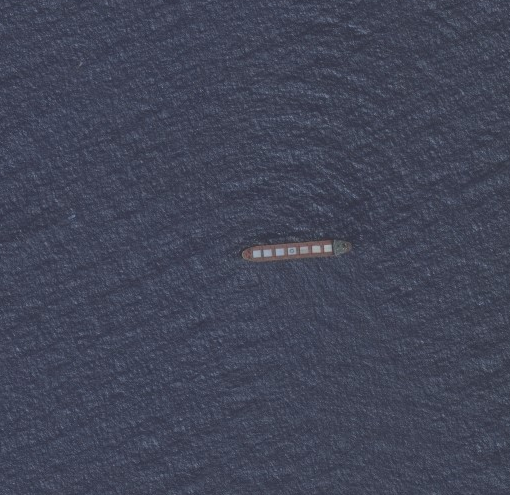ship: (238, 235, 363, 267)
